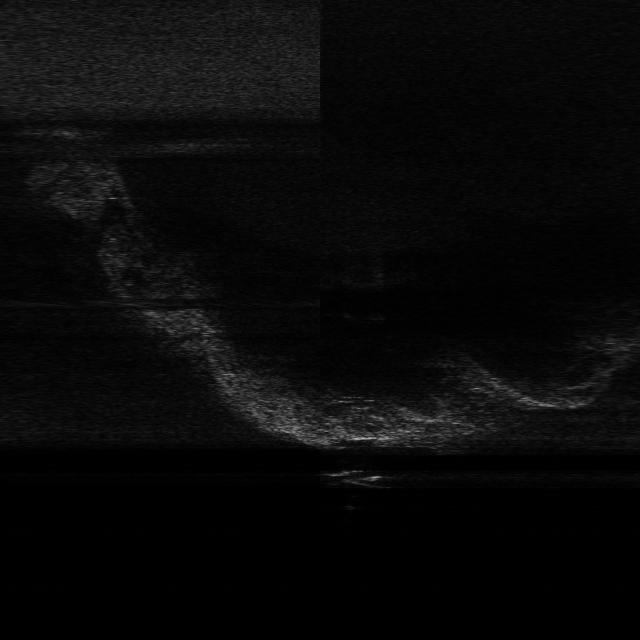plane: (320, 468, 400, 492)
